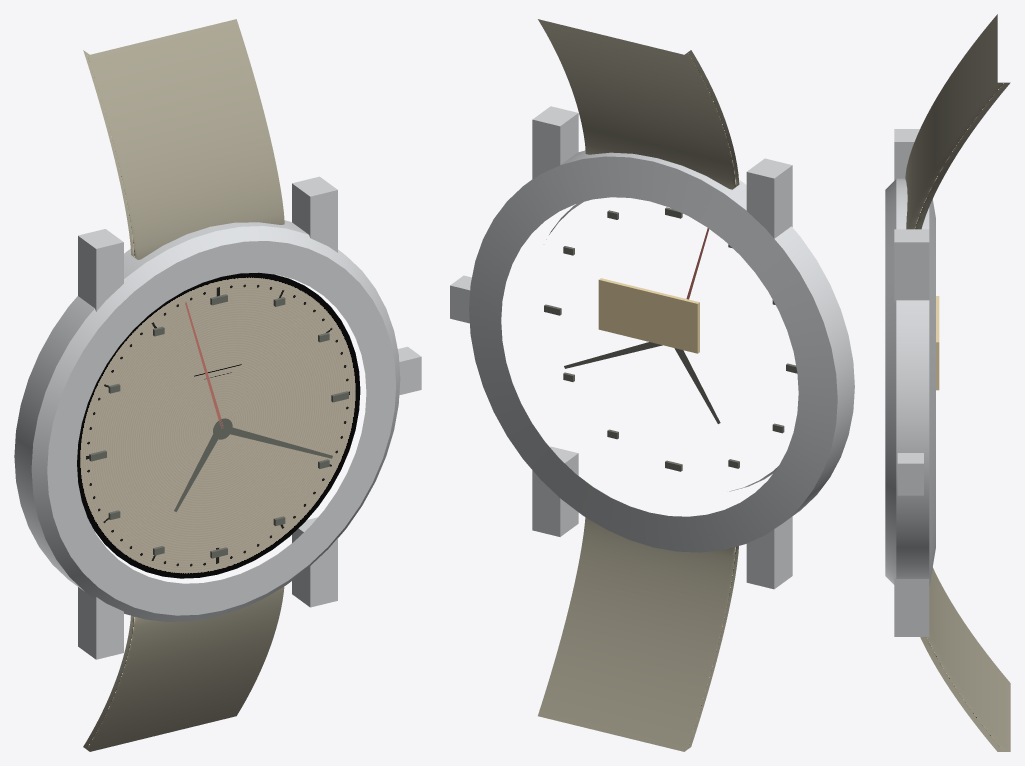
File: kestrel-14.glb
3 views of the same model, side by side, from view 1: azimuth 30°, elevation 25°; view 2: azimuth 150°, elevation 25°; view 3: azimuth 270°, elevation 25° (orthographic). The views are drawn at different scales.
Visible parts, largest first — view 1: WatchMesh; view 2: WatchMesh; view 3: WatchMesh.
Part boxes in pixels (x1,y1,x2,y2): WatchMesh: (14, 19, 421, 751); WatchMesh: (450, 19, 854, 751); WatchMesh: (885, 14, 1010, 751).
Size of the model in its own units: 1.97 by 3.36 by 0.58.
Materials: 6 (1 with a texture image).
